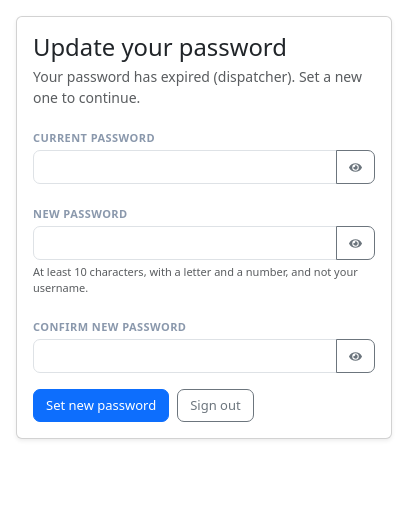
Test case: ChangePasswordPage › surfaces the server's rejection message
Type "wrong" into the password field labelled "Current password" at (185,167), box [33, 150, 337, 184]
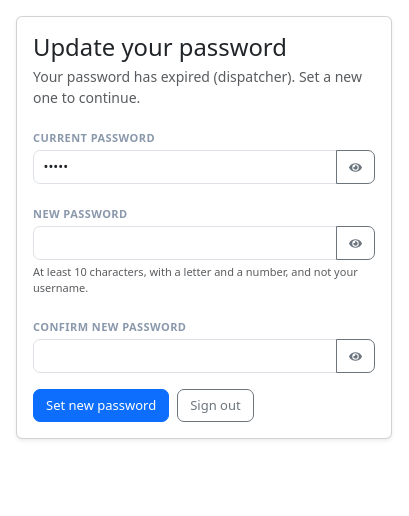
Type "NewPass5678" into the password field labelled "New password" at (185,243), box [33, 226, 337, 260]
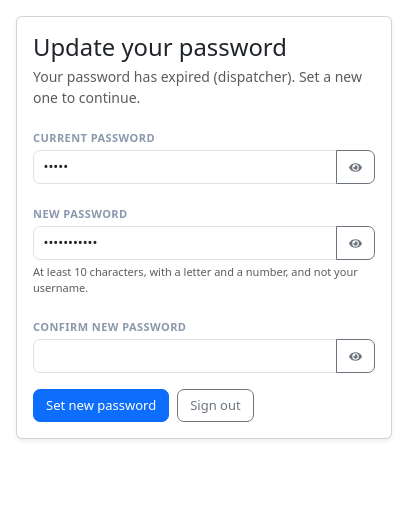
Type "NewPass5678" into the password field labelled "Confirm new password" at (185,356), box [33, 339, 337, 373]
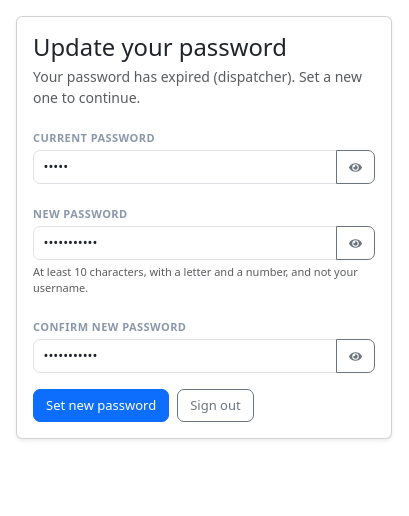
Click the button "Set new password" at (101,405), box [33, 389, 169, 422]
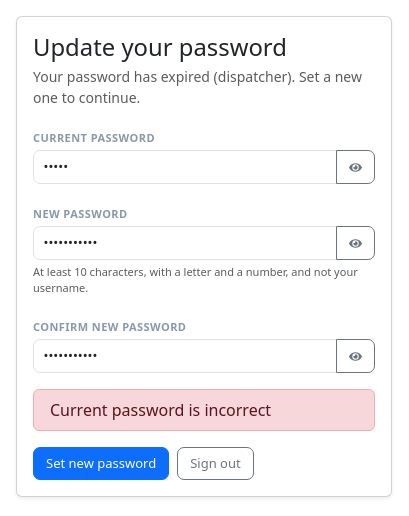
Now the text "Current password is incorrect" is shown, box [33, 389, 375, 431]
